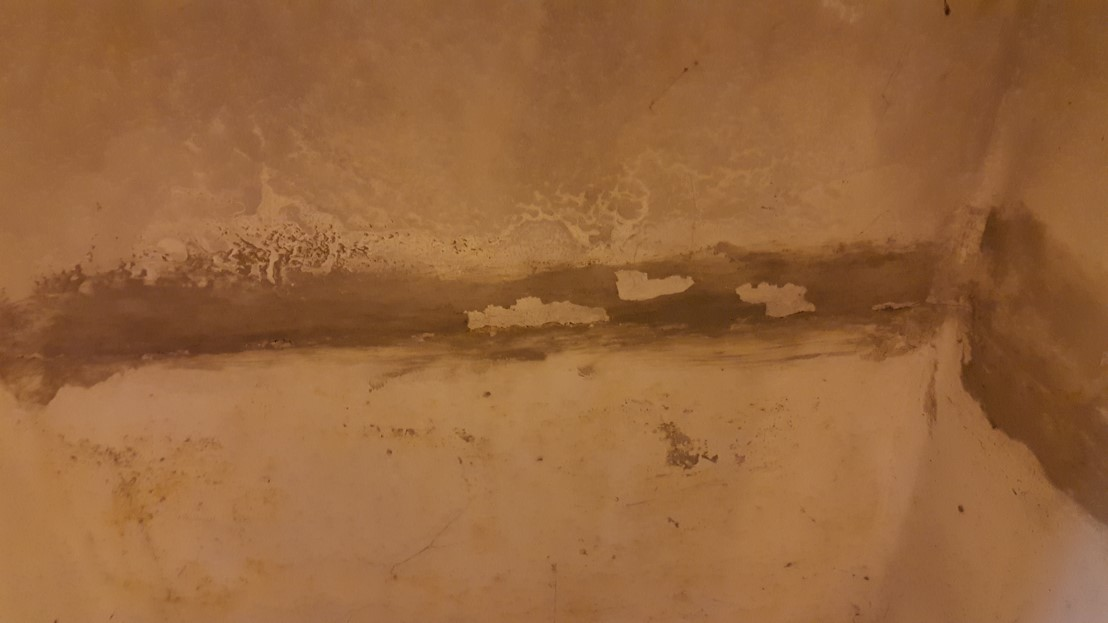Crack: (0, 258, 975, 374), (349, 472, 507, 574), (662, 130, 713, 272), (528, 524, 595, 623)
